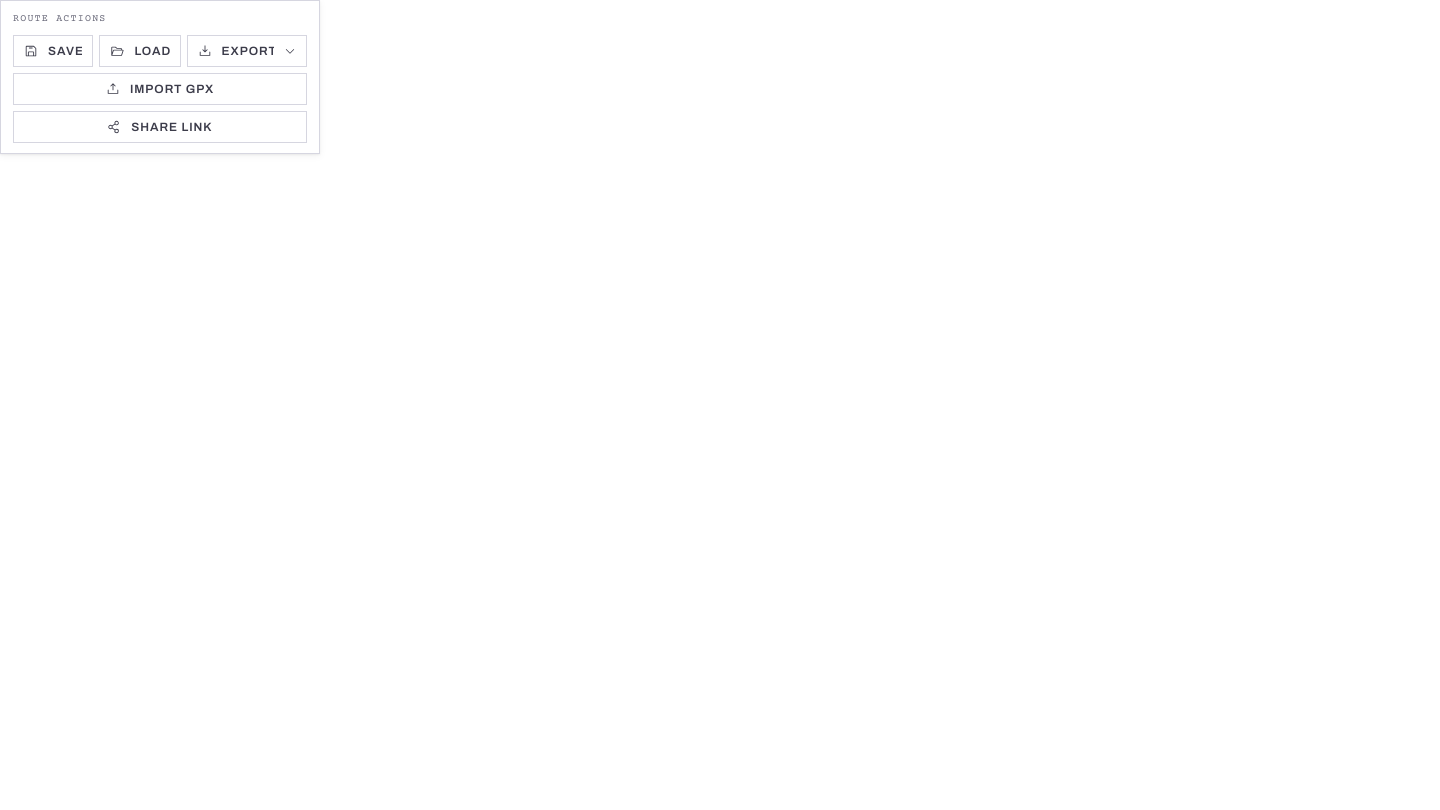
Test: RouteActionsPanel › deletes a saved route on a two-click confirm
The width and height of the screenshot is (1440, 810).
Click the button with test id "rb2-load-route-button": point(140, 50) x1=99 y1=34 x2=180 y2=66
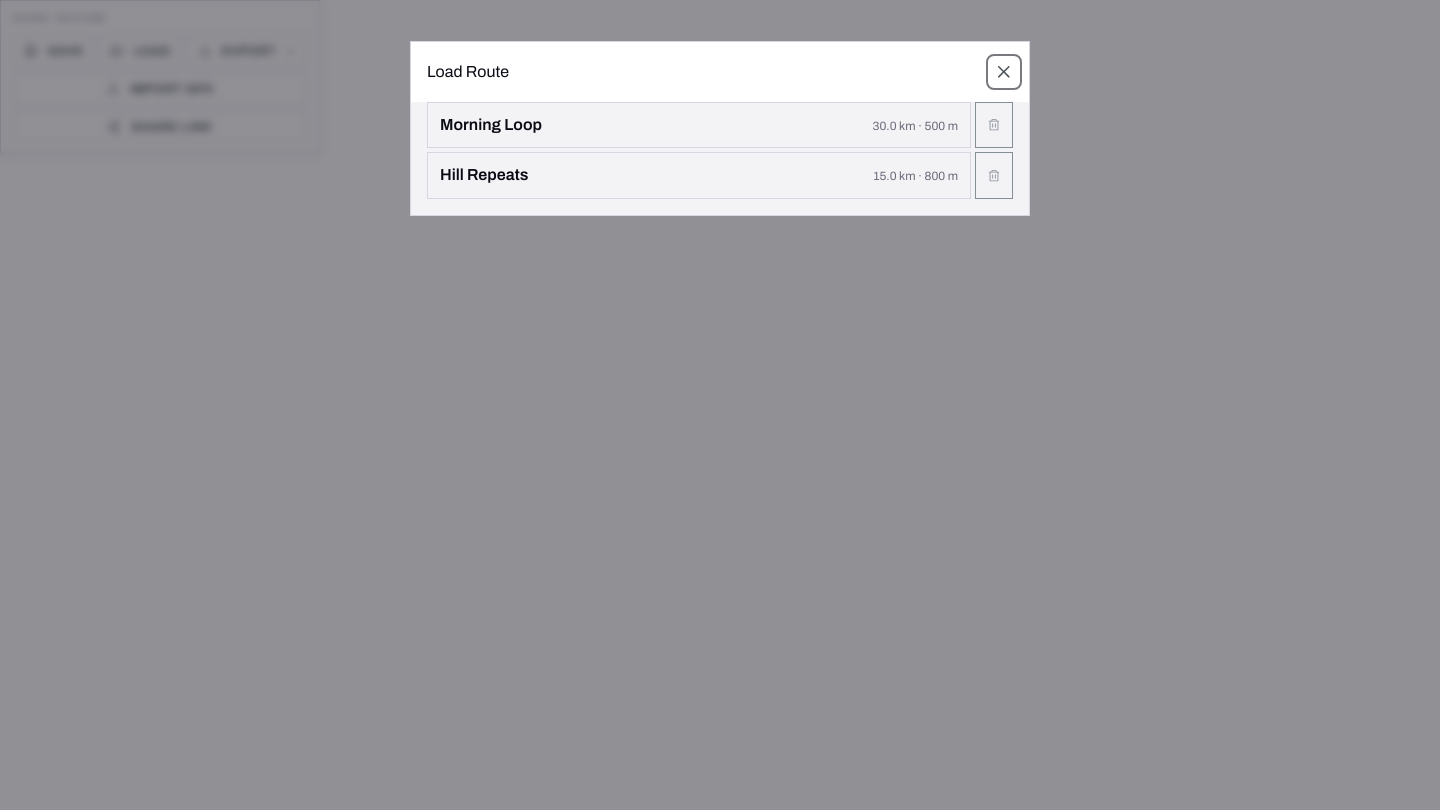
Click the button with test id "rb2-delete-route-r-1": point(994, 125) x1=975 y1=102 x2=1013 y2=148
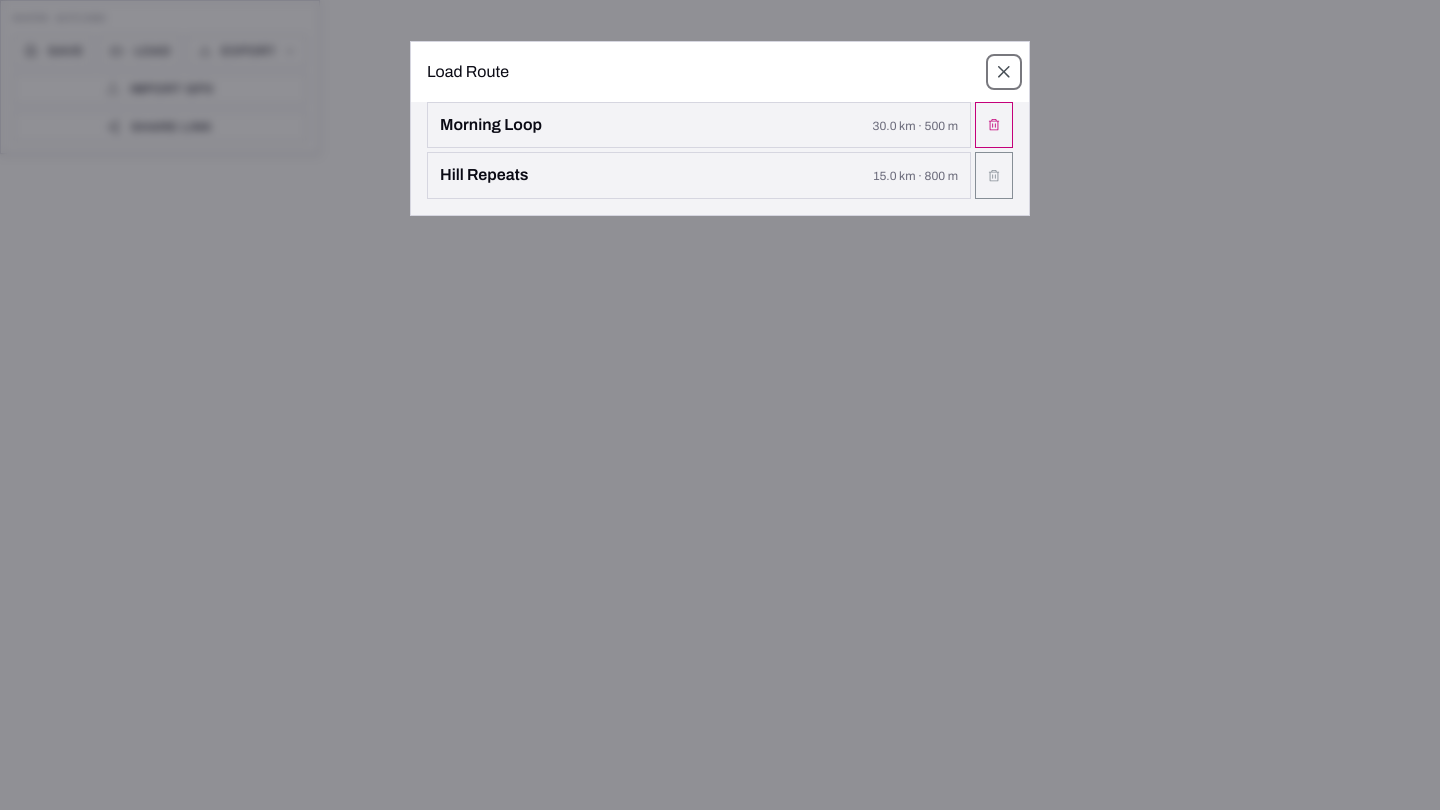
Click the button with test id "rb2-delete-route-r-1": point(994, 125) x1=975 y1=102 x2=1013 y2=148
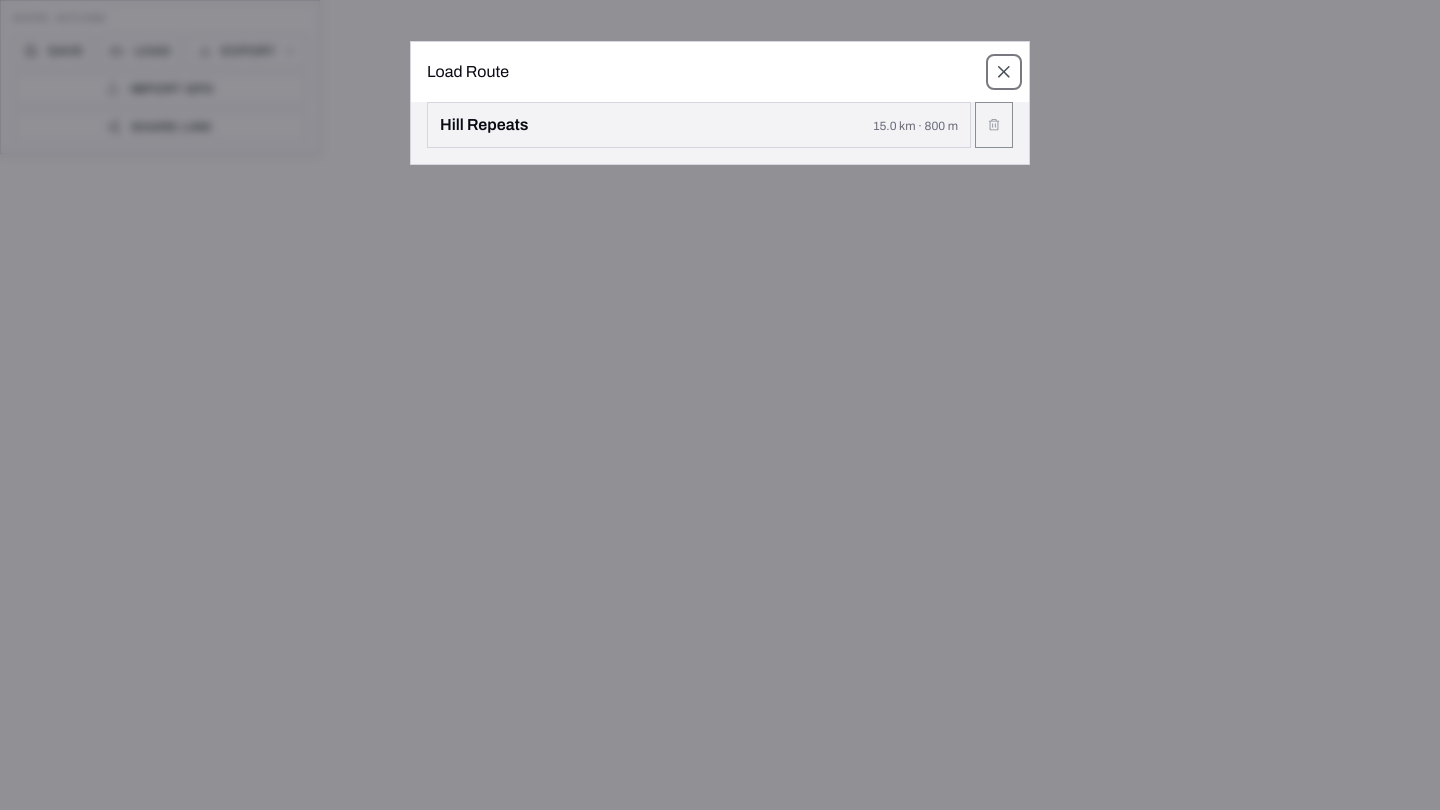
Result: the button with test id "rb2-load-item-r-1" is gone
